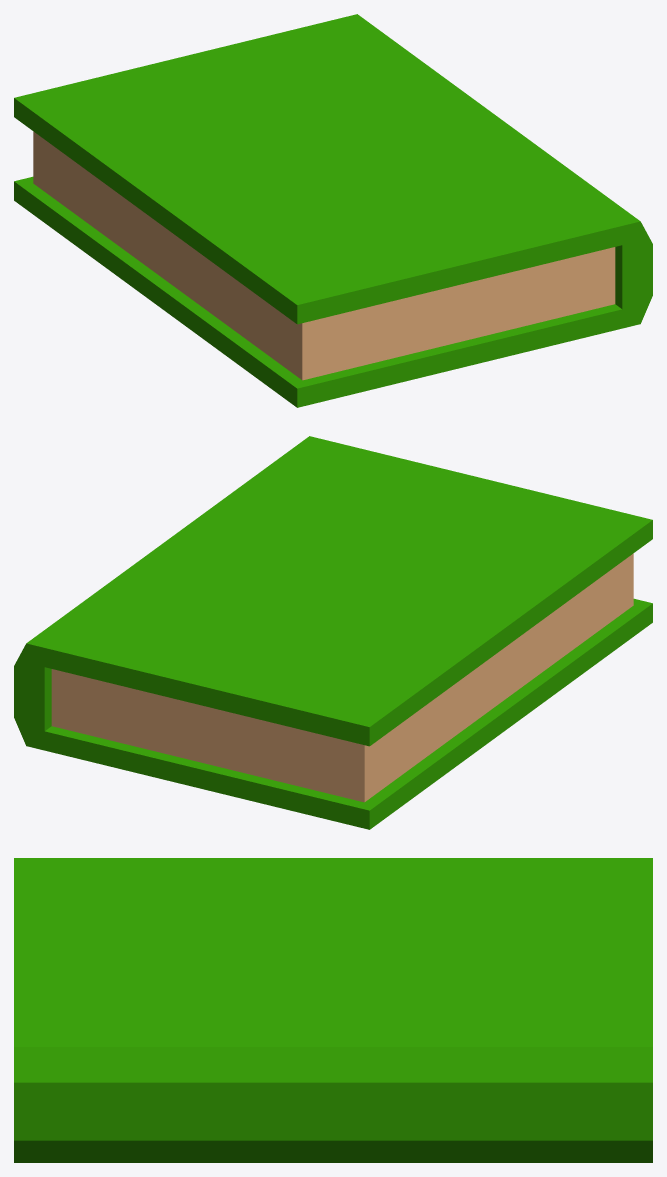
File: Book_3.fbx
3 views of the same model, one above another, from view 1: azimuth 30°, elevation 25°; view 2: azimuth 150°, elevation 25°; view 3: azimuth 270°, elevation 25° (orthographic). The views are drawn at different scales.
Visible parts, largest first — view 1: Book_3; view 2: Book_3; view 3: Book_3.
Boxes of the visible parts, x1,y1,x2,y2 form: Book_3: [14, 14, 652, 407]; Book_3: [14, 436, 652, 829]; Book_3: [14, 858, 652, 1162].
Size of the model in its own units: 0.29 by 0.4 by 0.08.
